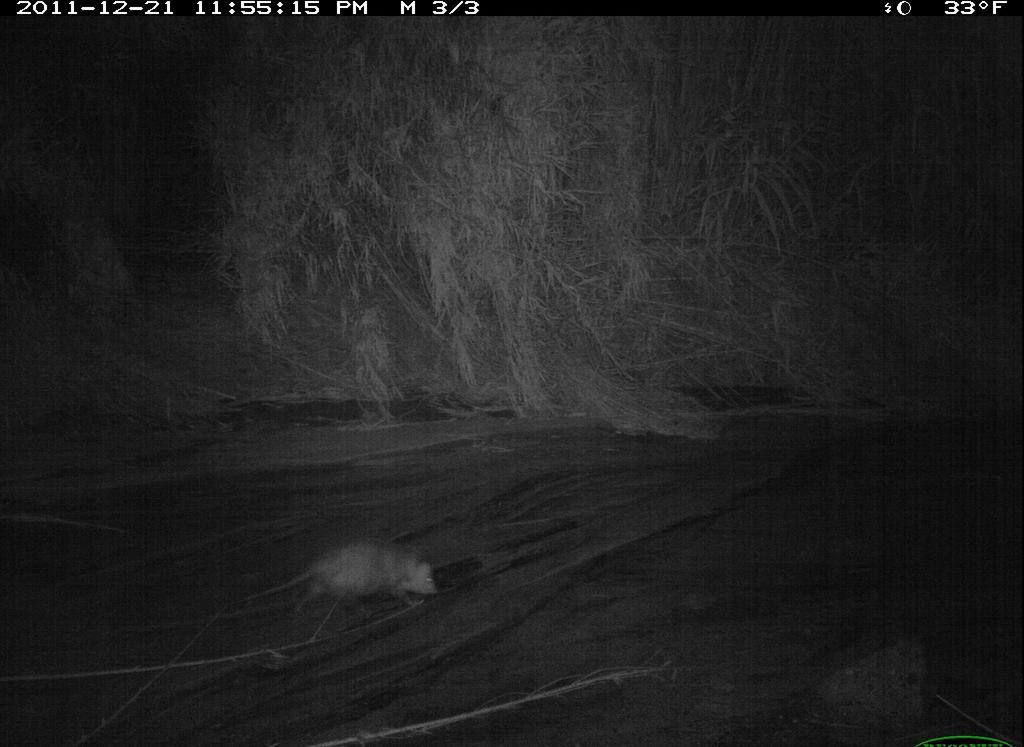opossum: (228, 528, 445, 625)
